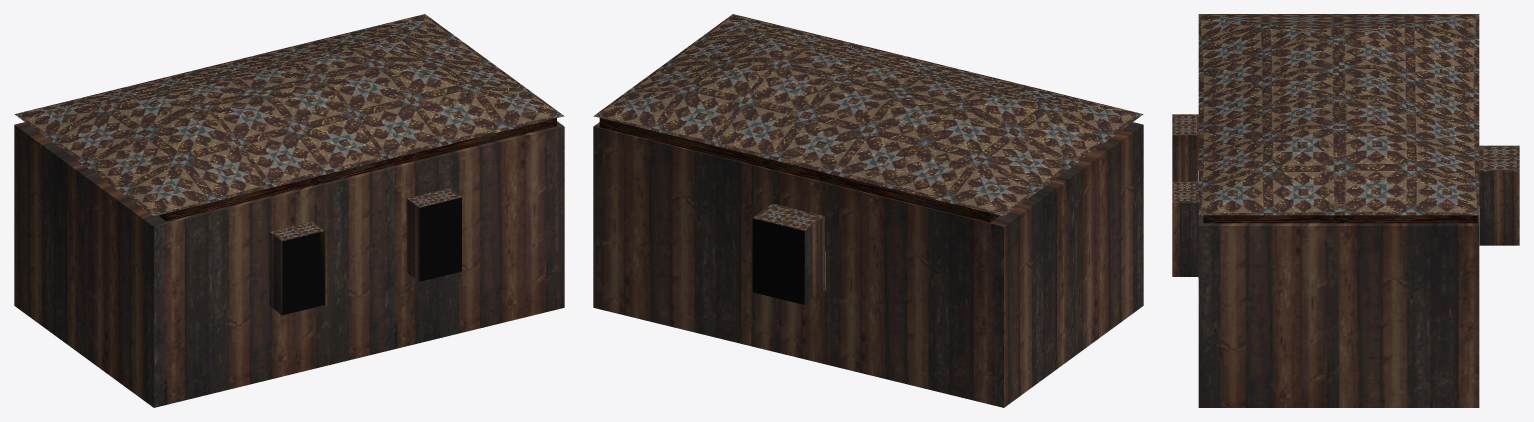
File: RoomDining.fbx
The picture shows the model from 3 angles, left to right: view 1: azimuth 30°, elevation 25°; view 2: azimuth 150°, elevation 25°; view 3: azimuth 270°, elevation 25°; orthographic projection.
Visible parts, largest first — view 1: RoomDining; view 2: RoomDining; view 3: RoomDining.
Part boxes in pixels (bbox=[...]): RoomDining: bbox=[14, 14, 564, 407]; RoomDining: bbox=[593, 14, 1143, 407]; RoomDining: bbox=[1172, 14, 1519, 407].
Size of the model in its own units: 12.37 by 6.38 by 9.01.
